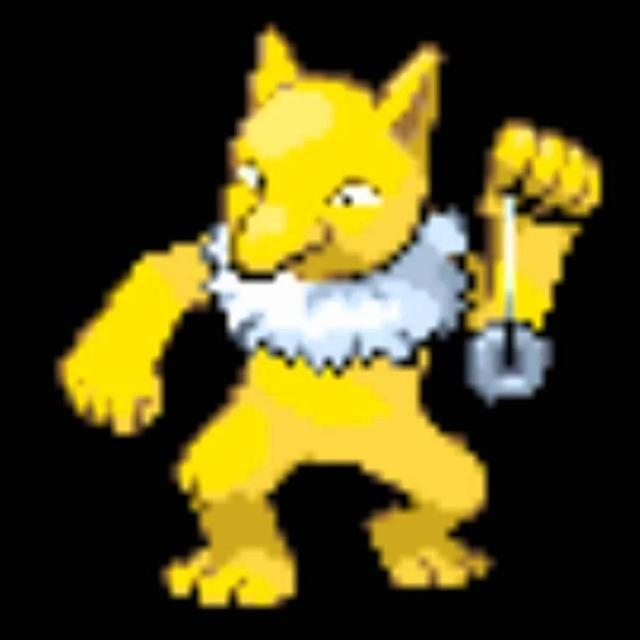Hypno: (138, 44, 562, 596)
